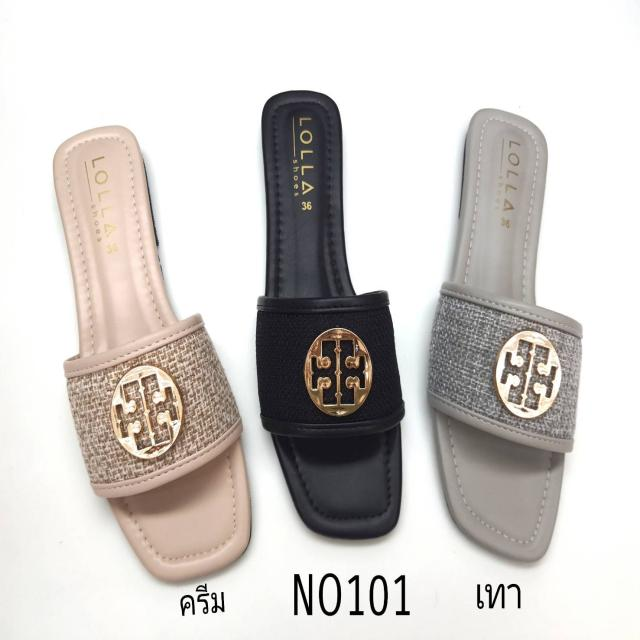black: (258, 90, 405, 538)
cream: (52, 126, 251, 577)
grey: (424, 109, 567, 558)
